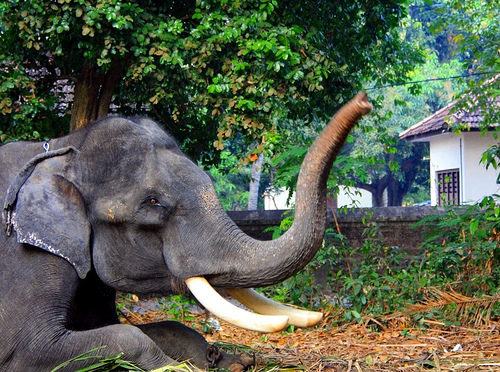elephant: (1, 82, 388, 372)
